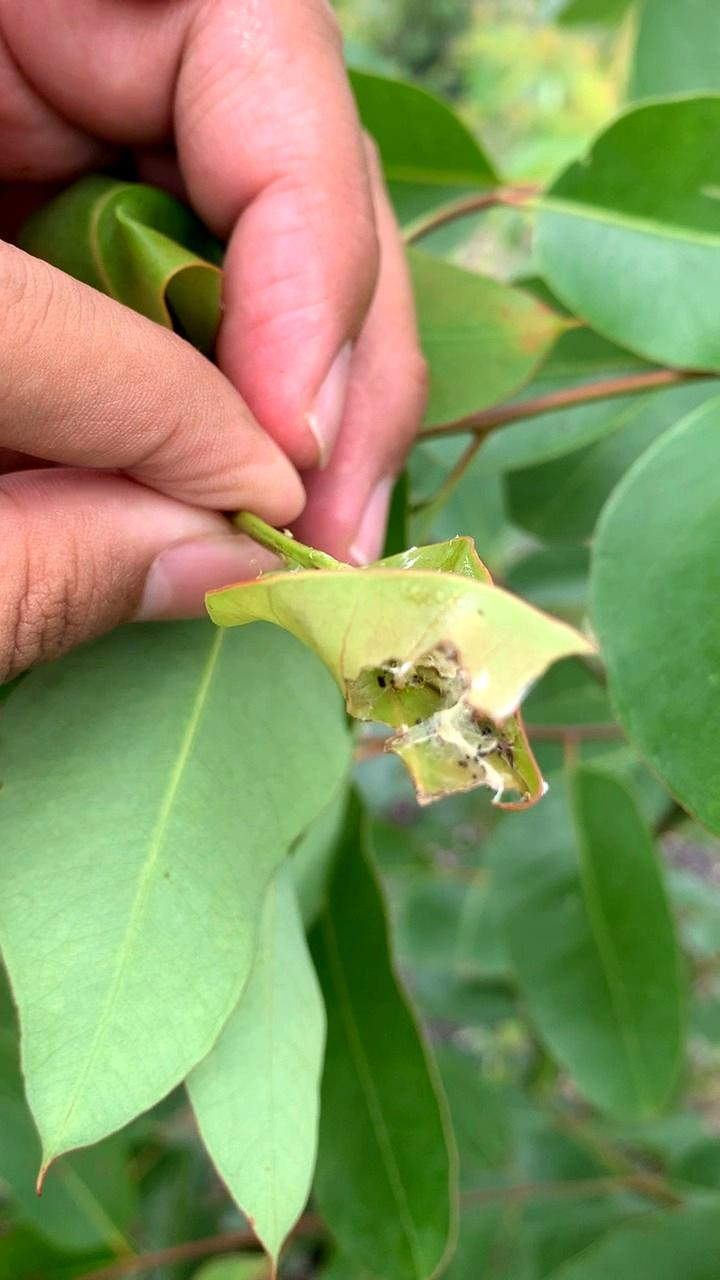Leaf Roller - Leaf: (195, 516, 621, 858)
